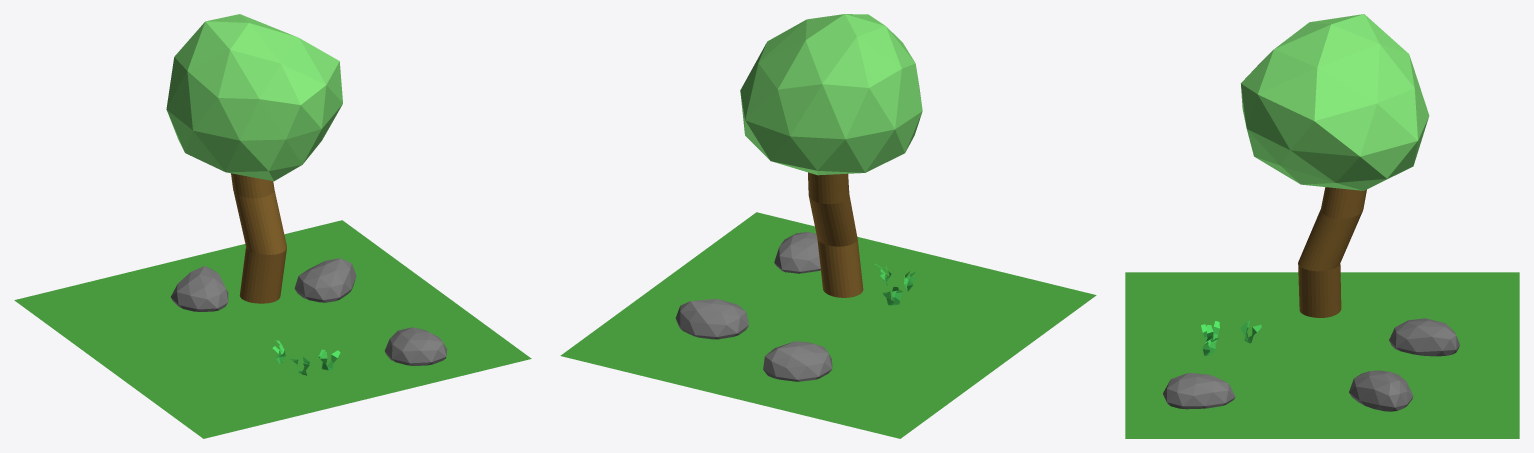
Rendered from low poly Tree.fbx.
The picture shows the model from 3 angles, left to right: view 1: azimuth 30°, elevation 25°; view 2: azimuth 150°, elevation 25°; view 3: azimuth 270°, elevation 25°; orthographic projection. The views are drawn at different scales.
Parts seen in each view (by area): view 1: Plane, Icosphere, Cylinder, Icosphere.002, Icosphere.003, Icosphere.001; view 2: Plane, Icosphere, Cylinder, Icosphere.002, Icosphere.003, Icosphere.001; view 3: Plane, Icosphere, Cylinder, Icosphere.003, Icosphere.001, Icosphere.002.
Boxes of the visible parts, bbox=[...] form: Plane: bbox=[14, 220, 531, 438]; Icosphere: bbox=[166, 14, 342, 181]; Cylinder: bbox=[231, 173, 286, 303]; Icosphere.002: bbox=[294, 258, 356, 302]; Icosphere.003: bbox=[170, 266, 228, 311]; Icosphere.001: bbox=[384, 327, 447, 365]; Plane: bbox=[560, 212, 1096, 438]; Icosphere: bbox=[740, 14, 922, 175]; Cylinder: bbox=[808, 172, 863, 297]; Icosphere.002: bbox=[675, 299, 748, 339]; Icosphere.003: bbox=[763, 341, 832, 381]; Icosphere.001: bbox=[774, 232, 820, 273]; Plane: bbox=[1125, 272, 1519, 438]; Icosphere: bbox=[1240, 14, 1429, 190]; Cylinder: bbox=[1298, 187, 1366, 317]; Icosphere.003: bbox=[1389, 318, 1459, 356]; Icosphere.001: bbox=[1163, 373, 1235, 409]; Icosphere.002: bbox=[1349, 370, 1413, 411].
Size of the model in its own units: 200 by 185 by 200.
